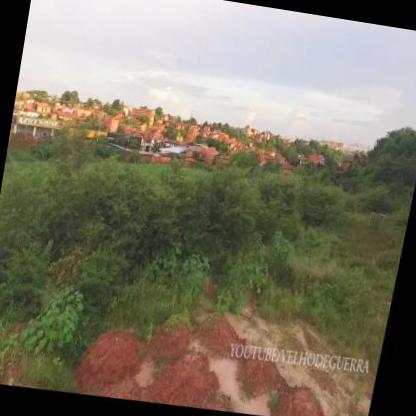agua: (208, 355, 251, 400)
